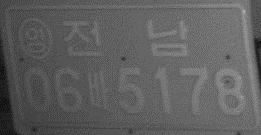0: (23, 67, 51, 111)
1: (149, 66, 175, 115)
5: (117, 67, 146, 115)
6: (52, 67, 81, 113)
7: (179, 66, 208, 116)
8: (212, 67, 246, 116)
바: (86, 70, 110, 110)
영: (16, 17, 53, 60)
전남_D: (61, 18, 189, 58)
